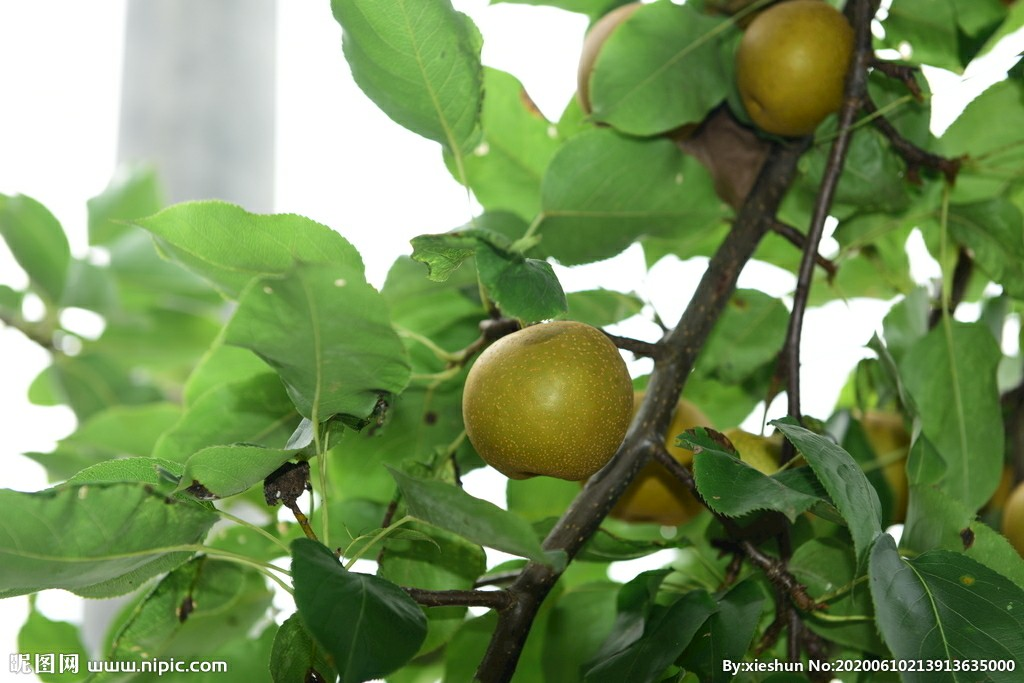pear: (462, 314, 632, 477), (580, 394, 717, 522), (735, 1, 853, 134)
